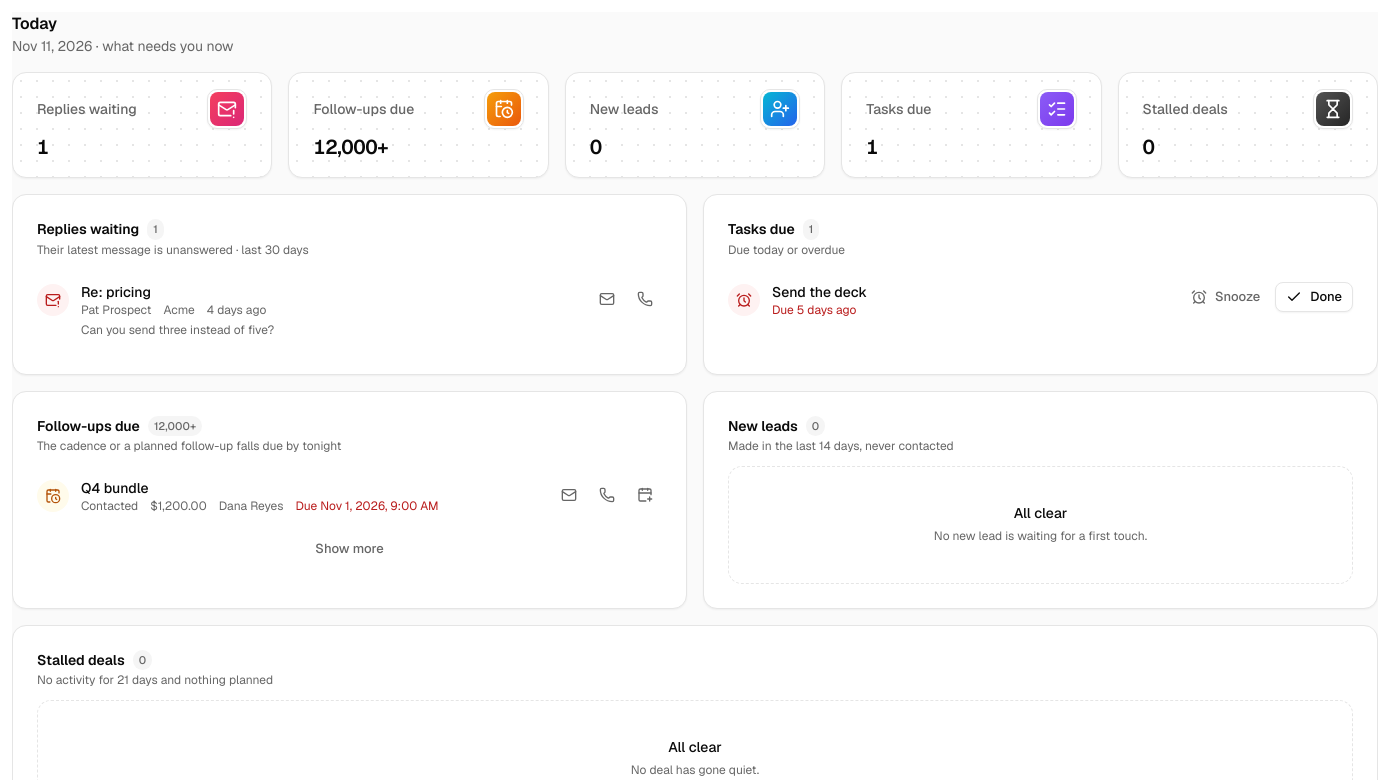
Scenario: #360 the day’s work on the dashboard › names each icon action on hover
Hover over the button named "Email Pat Prospect" at (607, 298), box top-left (590, 282), bottom-right (624, 316)
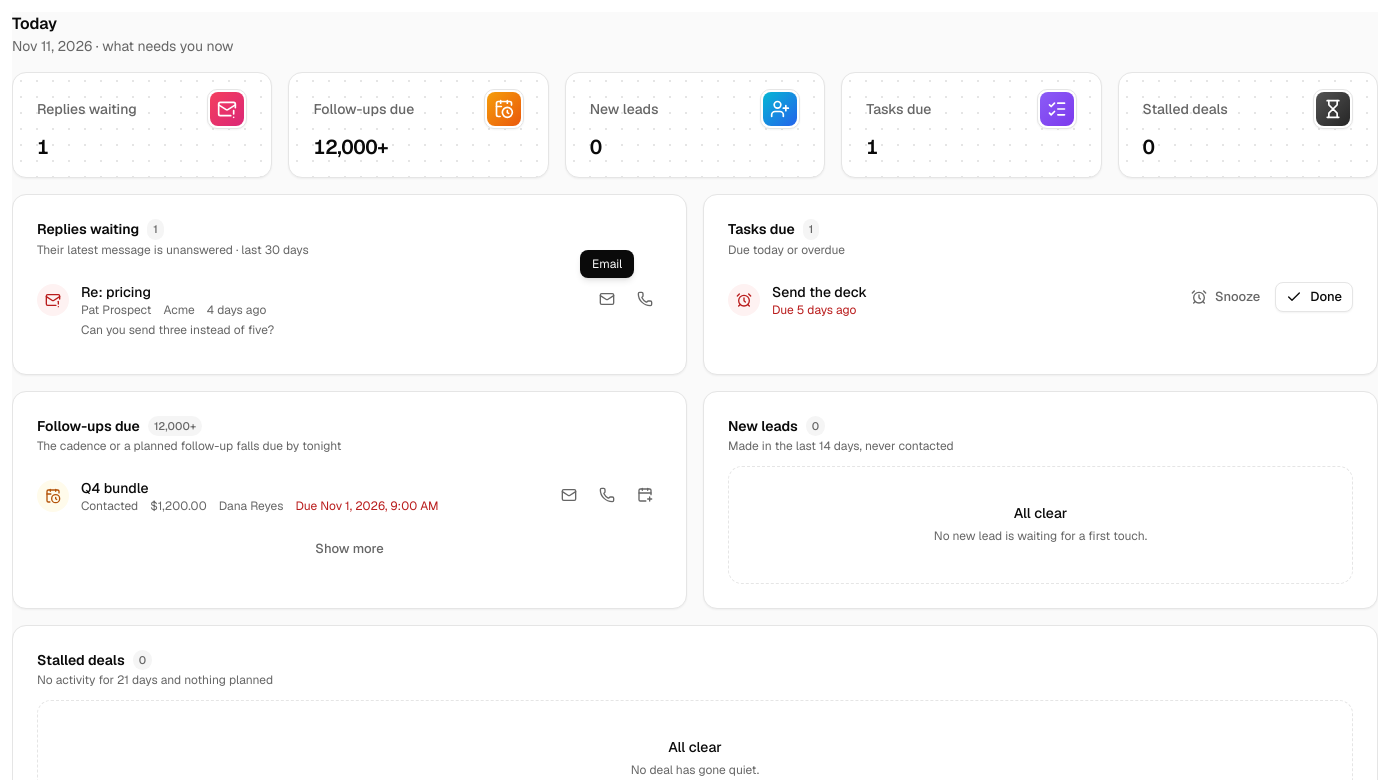
expect the tooltip "Email" is shown: met, box top-left (580, 250), bottom-right (634, 278)
Hover over the button named "Set next follow-up for Q4 bundle" at (645, 495), box top-left (628, 478), bottom-right (662, 512)
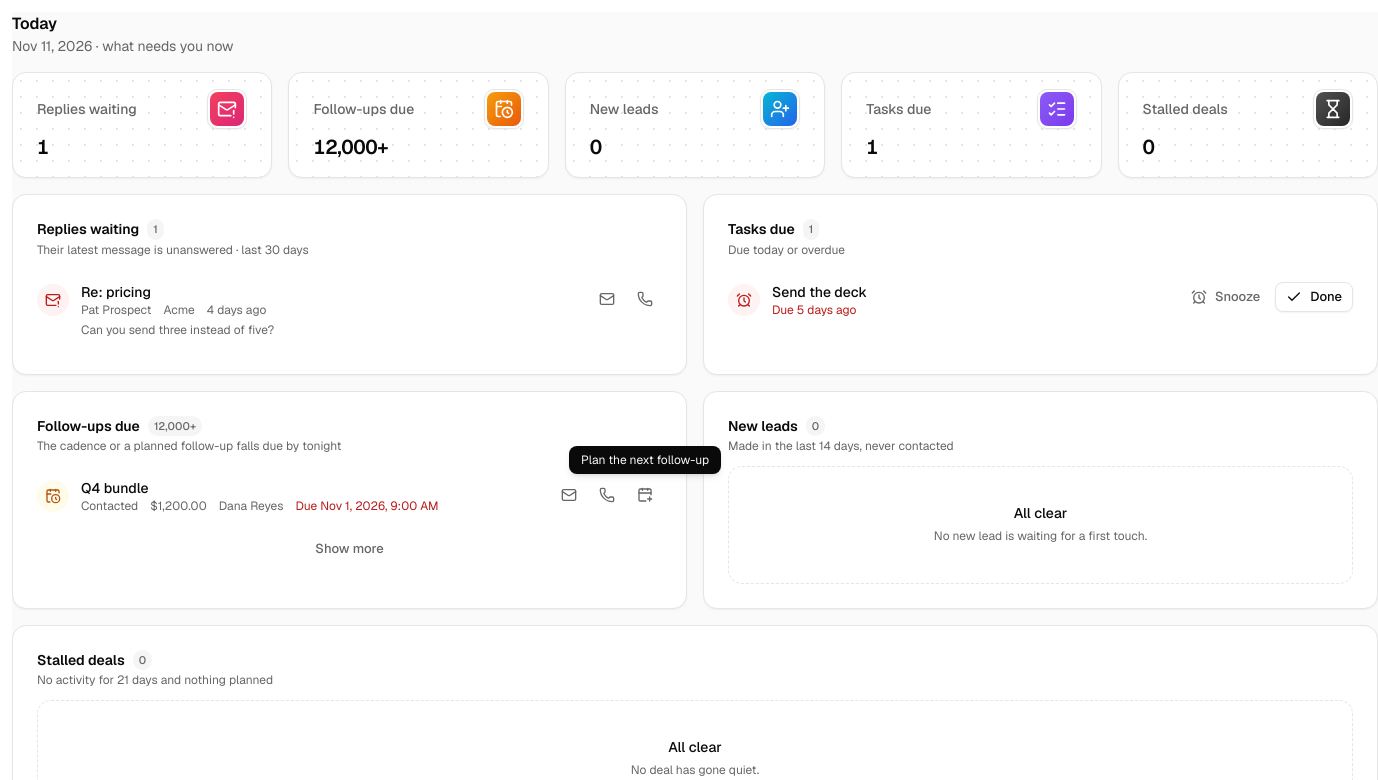
expect the tooltip "Plan the next follow-up" is shown: met, box top-left (569, 446), bottom-right (721, 474)
